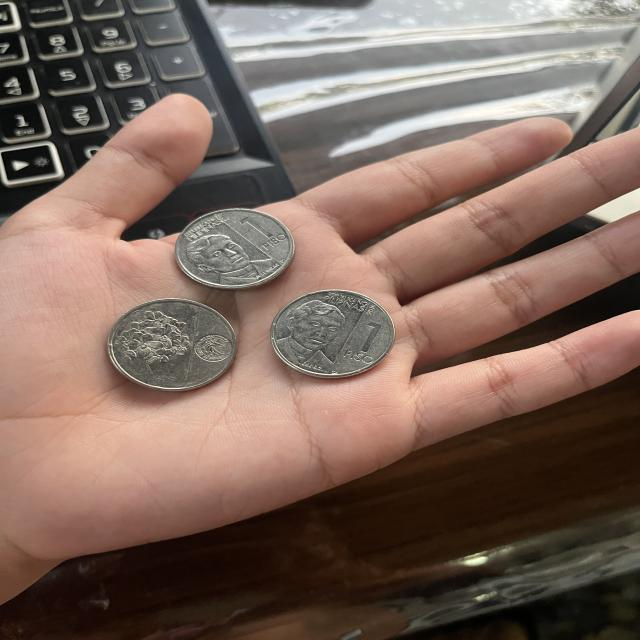1_New_Back: (109, 309, 197, 372)
1_New_Front: (335, 311, 385, 367), (232, 214, 290, 252)
